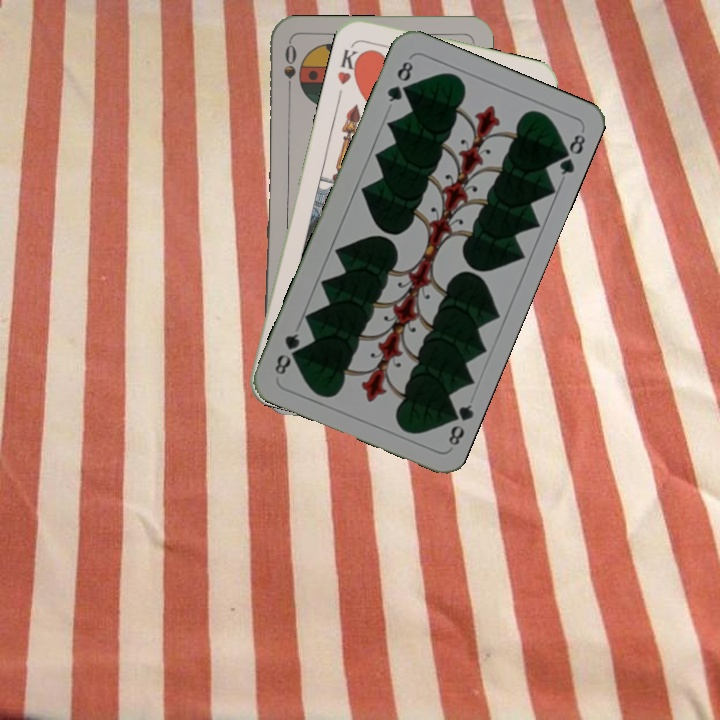G8: (442, 400, 476, 451), (383, 57, 416, 105)
HK: (333, 39, 366, 87)
SO: (280, 40, 299, 99)
